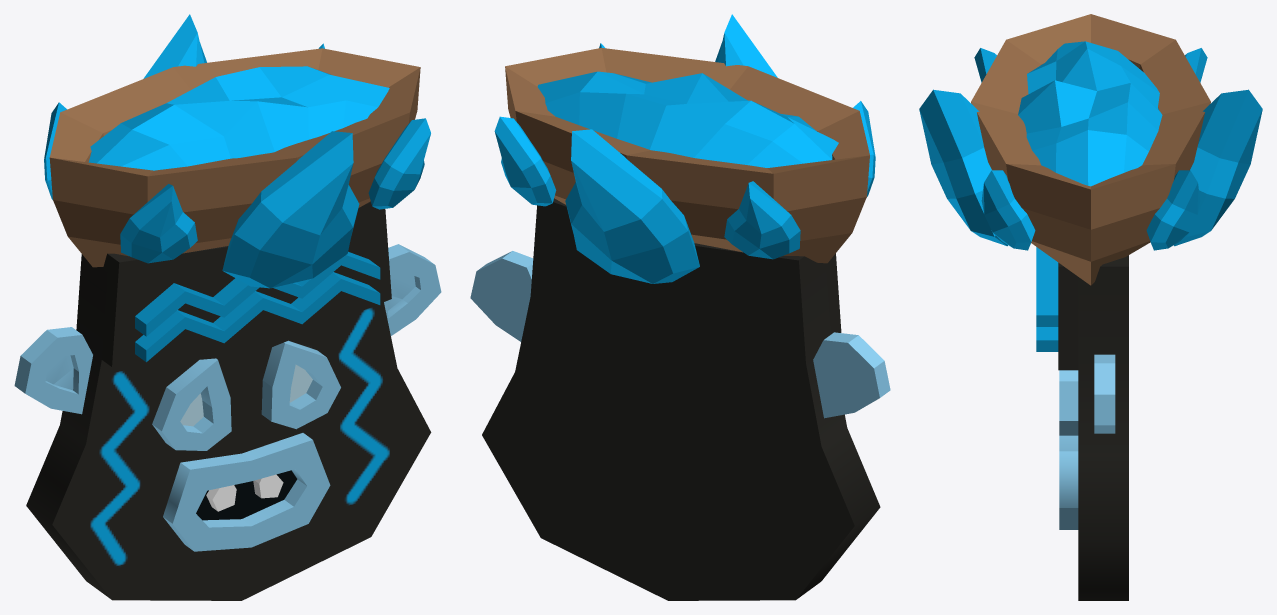
The model's file is Mask 04.fbx.
The picture shows the model from 3 angles, left to right: view 1: azimuth 30°, elevation 25°; view 2: azimuth 150°, elevation 25°; view 3: azimuth 270°, elevation 25°; orthographic projection. The views are drawn at different scales.
Visible parts, largest first — view 1: Mask 03.001; view 2: Mask 03.001; view 3: Mask 03.001.
Boxes of the visible parts, box(x1,y1,x2,y2) form: Mask 03.001: box(14, 14, 441, 600); Mask 03.001: box(470, 14, 890, 600); Mask 03.001: box(919, 14, 1262, 600).
Size of the model in its own units: 86.16 by 102 by 63.51.
1 material, 1 textured.
